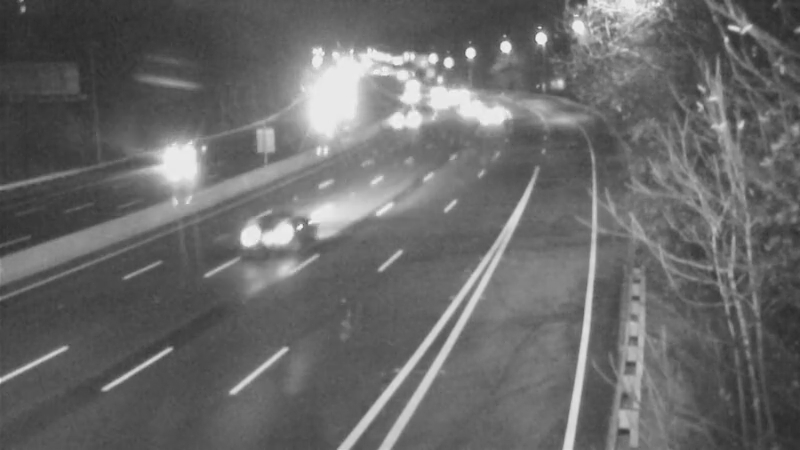vehicle: (236, 188, 316, 268), (139, 124, 219, 204), (413, 74, 463, 124), (437, 86, 487, 136), (460, 92, 510, 142), (379, 100, 429, 150)
